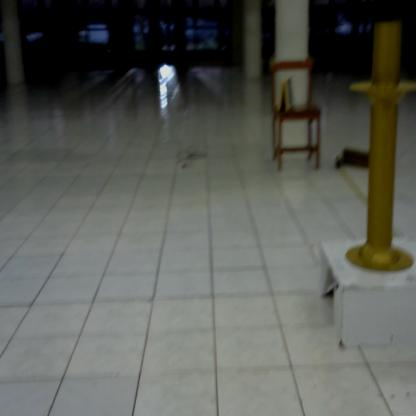pole: (347, 15, 416, 283)
